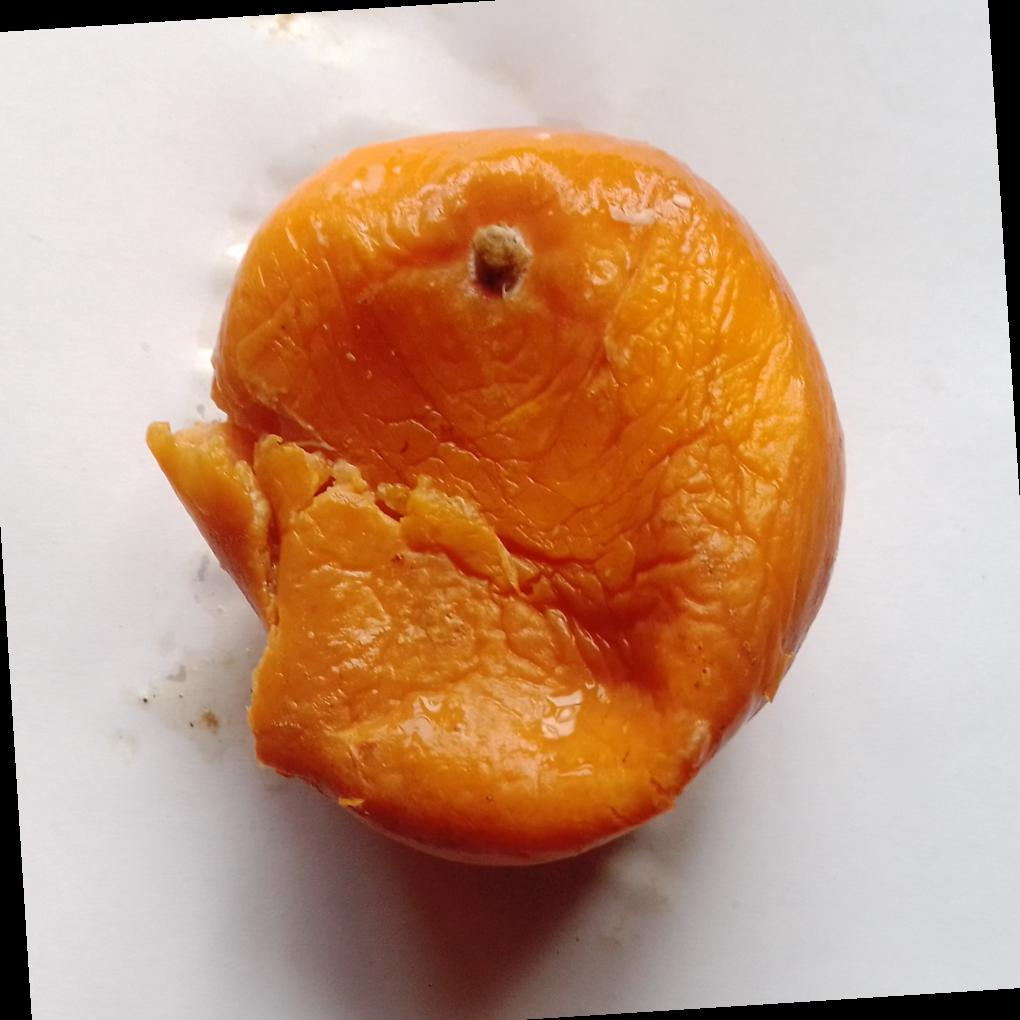FreshOrange: (144, 128, 847, 872)
